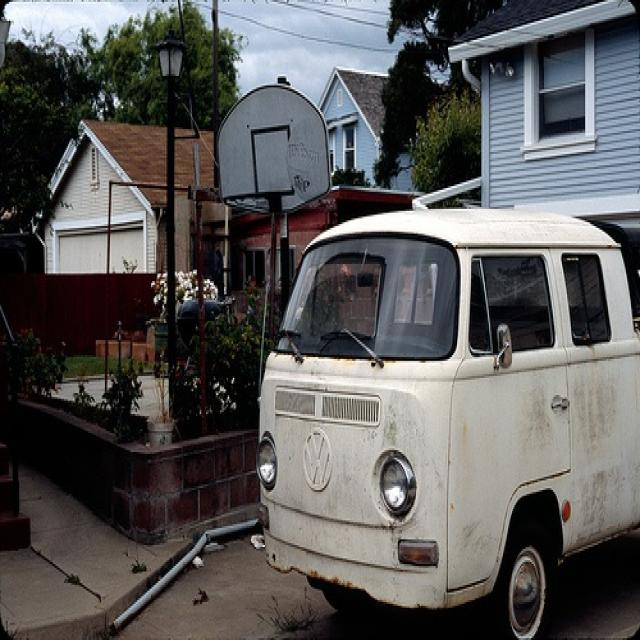car: (253, 205, 639, 636)
